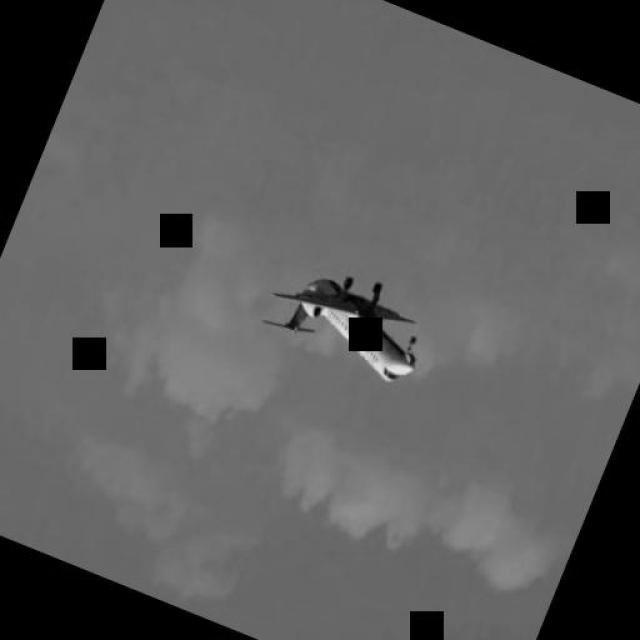aeroplane: (263, 270, 429, 388)
